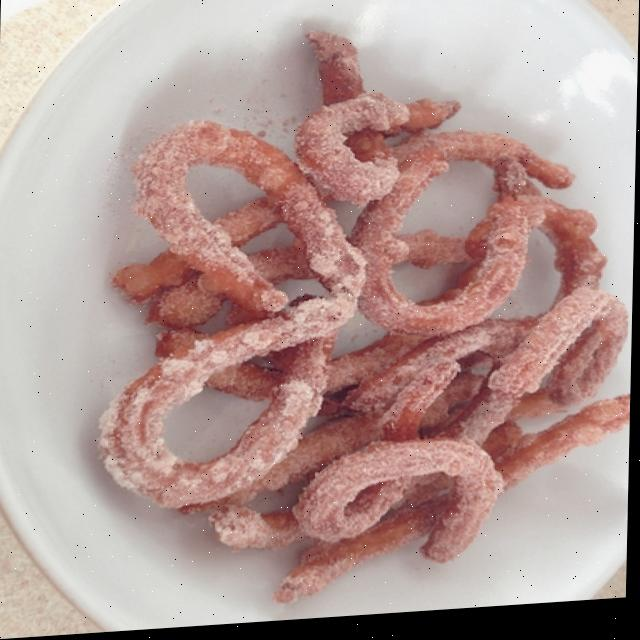炸货点心: (29, 11, 639, 636)
